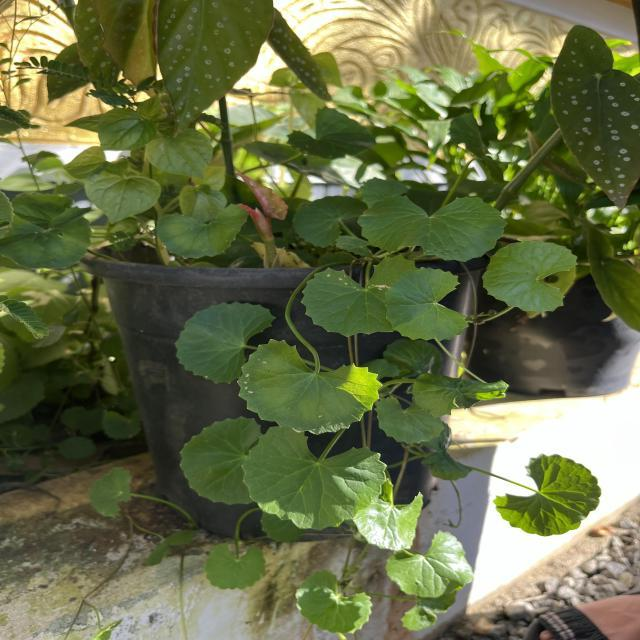Centella asiatica: (238, 424, 390, 534), (232, 336, 386, 437), (353, 190, 511, 265), (297, 250, 420, 340), (478, 238, 580, 315), (382, 264, 473, 344)
